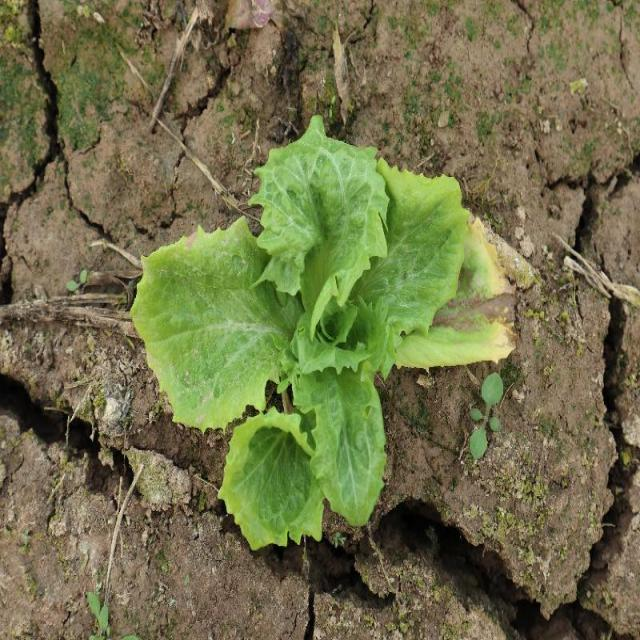crop: (130, 115, 471, 553)
